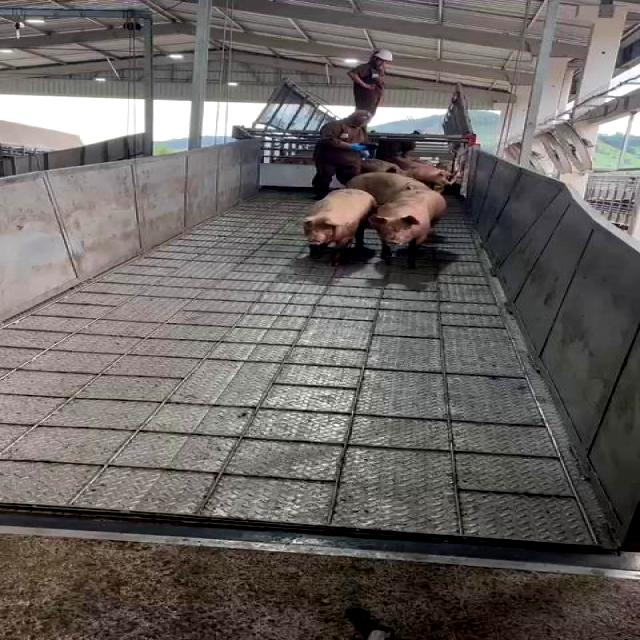pig: (346, 172, 447, 263), (302, 189, 378, 264), (371, 192, 442, 246)
